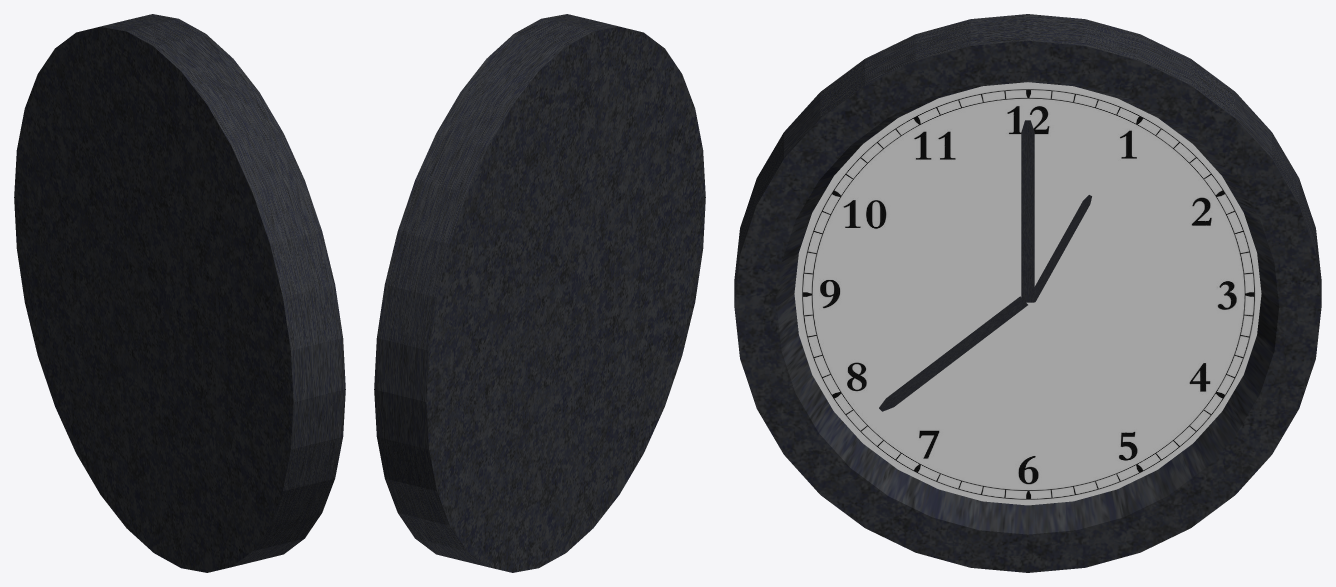
File: clock.fbx
The picture shows the model from 3 angles, left to right: view 1: azimuth 30°, elevation 25°; view 2: azimuth 150°, elevation 25°; view 3: azimuth 270°, elevation 25°; orthographic projection. The views are drawn at different scales.
Parts seen in each view (by area): view 1: Clock; view 2: Clock; view 3: Clock.
Part boxes in pixels (x1,y1,x2,y2): Clock: [14, 14, 345, 572]; Clock: [374, 14, 705, 572]; Clock: [734, 14, 1321, 572].
Bounding box in the file's own units: 5.36 × 49.63 × 49.63.
